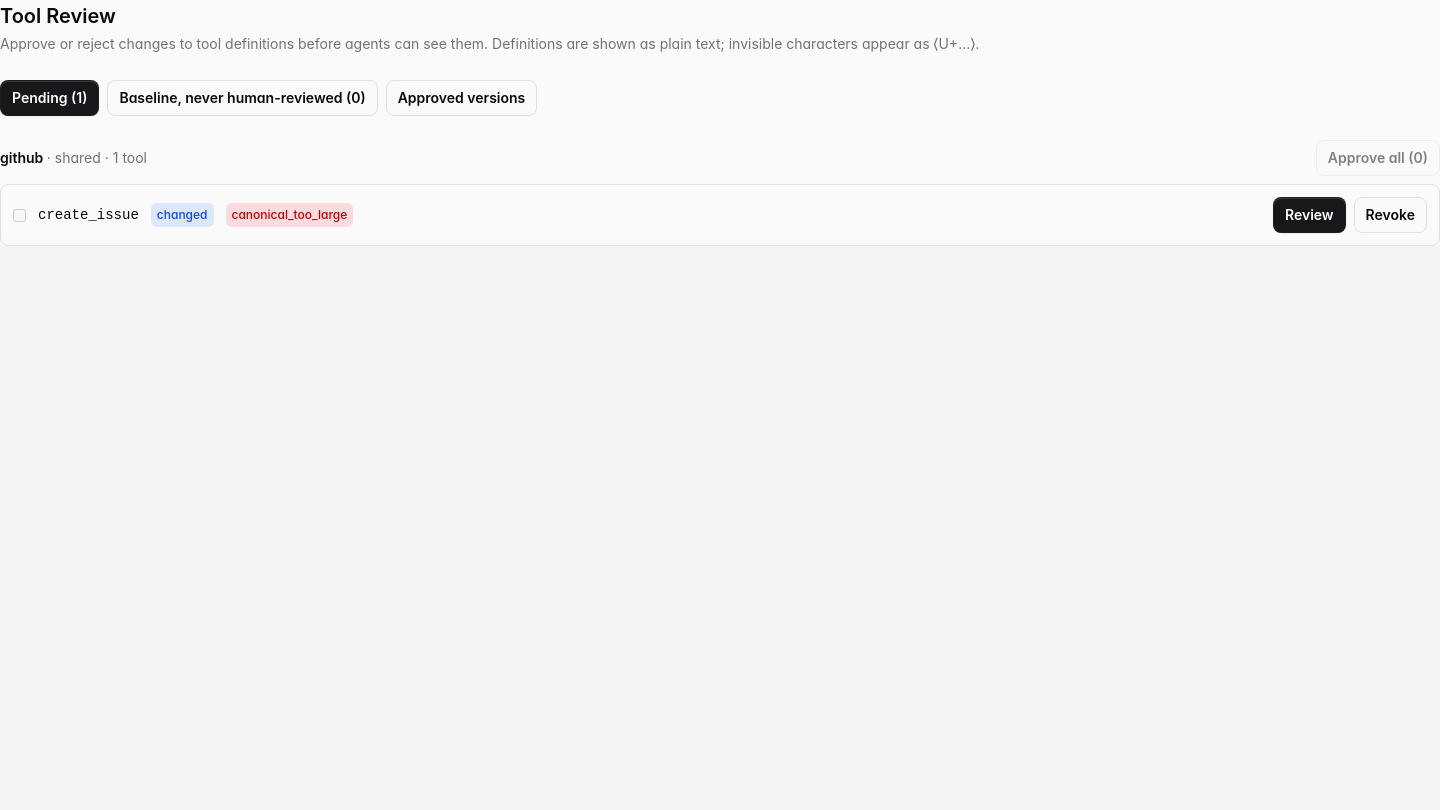
it: ToolReview › shows only a size marker for an oversize definition and never approves it
The width and height of the screenshot is (1440, 810).
Click the button "Review". click: (1309, 215)
box: [1273, 197, 1346, 233]
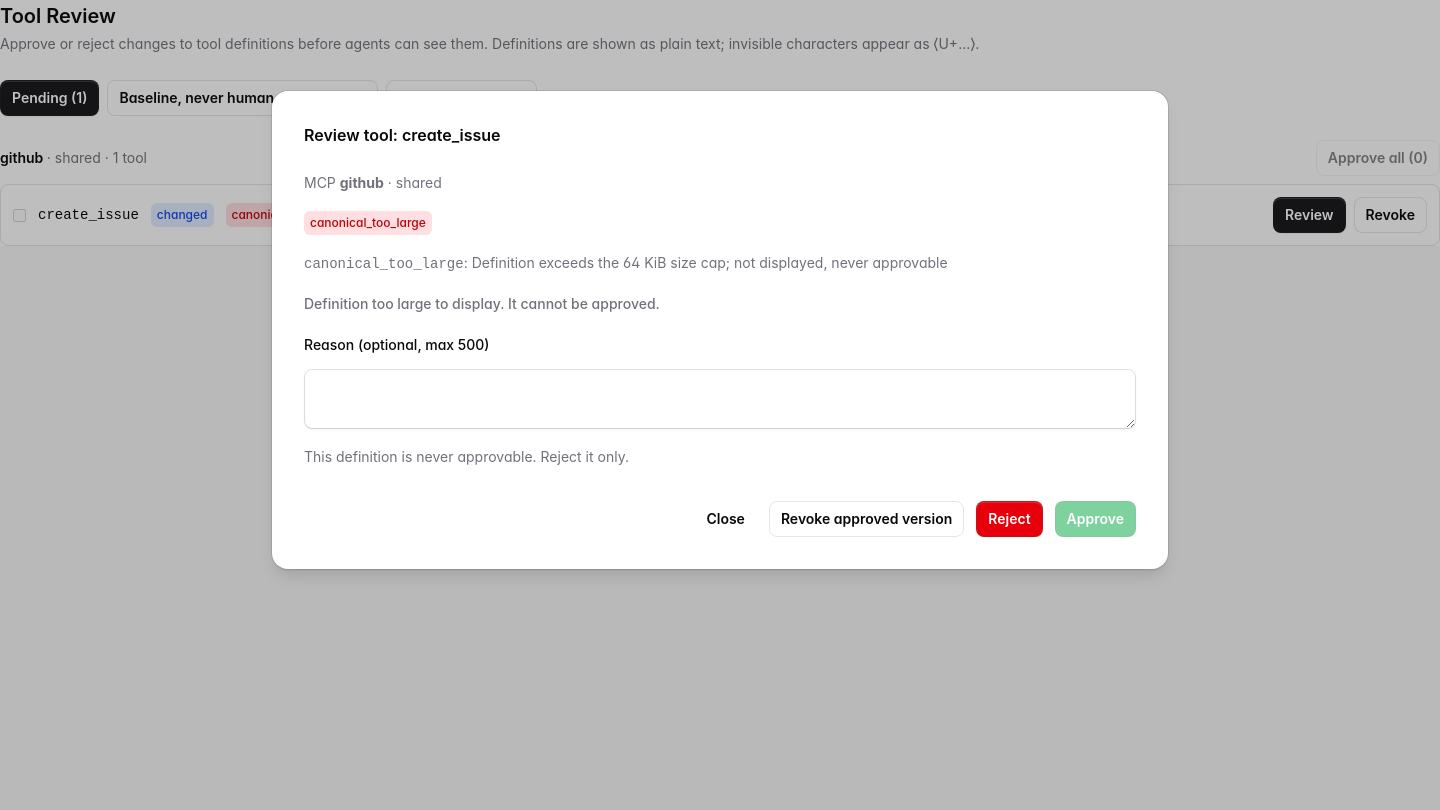
Expected: the text "Definition too large to display. It cannot be approved." is shown, [304, 295, 660, 312]
Expected: the button "Approve" is disabled, [1055, 501, 1136, 537]
